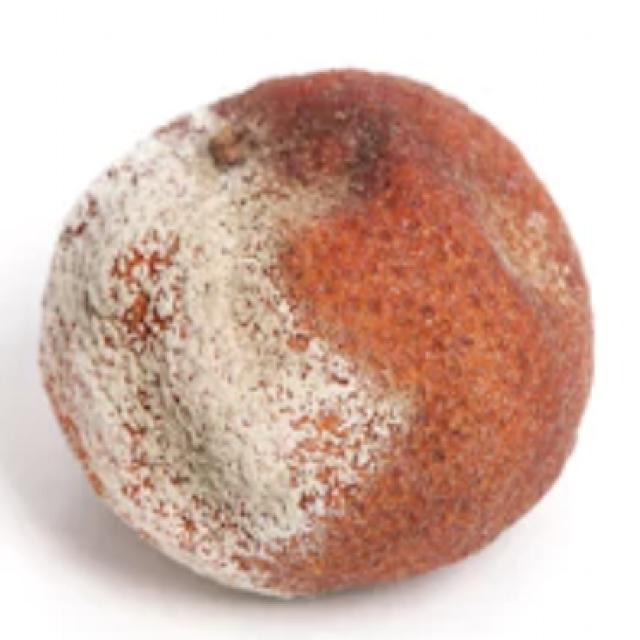rotten-orange: (35, 64, 594, 599)
